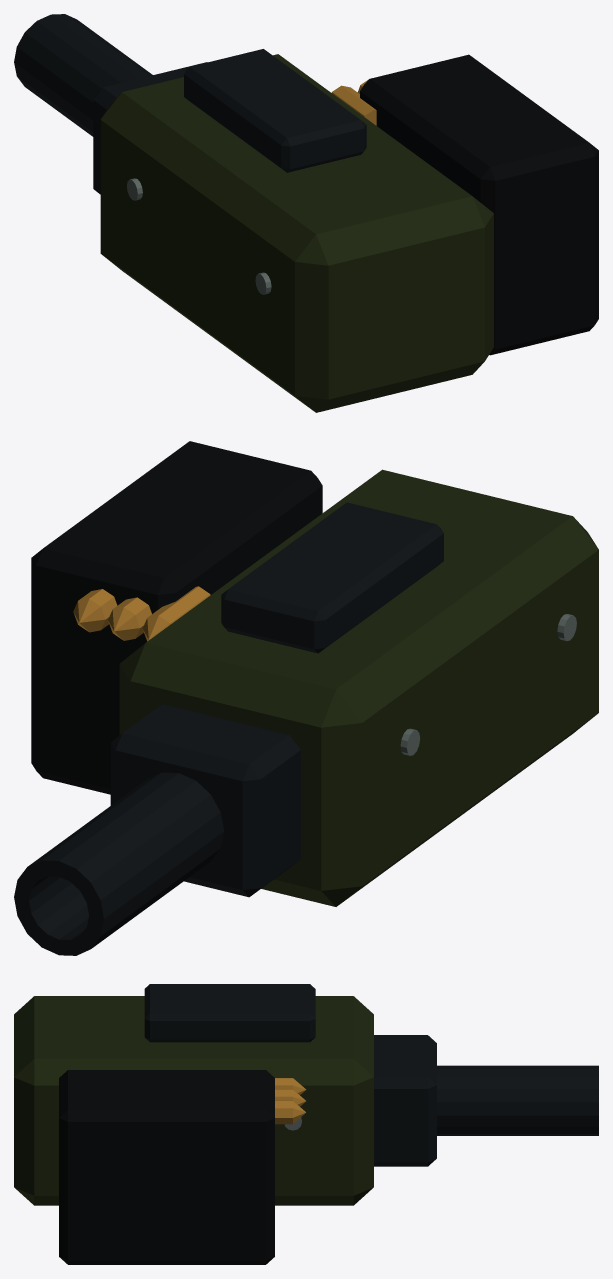
Rendered from Grenade40.obj.
The picture shows the model from 3 angles, top to bottom: view 1: azimuth 30°, elevation 25°; view 2: azimuth 150°, elevation 25°; view 3: azimuth 270°, elevation 25°; orthographic projection. The views are drawn at different scales.
Visible parts, largest first — view 1: Grenade_pod_shell, Ammunition_box, Mount_lug, Short_large-bore_barrel, Grenade_receiver, Grenade_belt.001; view 2: Grenade_pod_shell, Ammunition_box, Short_large-bore_barrel, Grenade_receiver, Mount_lug, Grenade_belt.002, Grenade_belt.003, Grenade_belt.001; view 3: Ammunition_box, Grenade_pod_shell, Short_large-bore_barrel, Mount_lug, Grenade_receiver, Grenade_belt.003.
Part boxes in pixels (x1,y1,x2,y2): Grenade_pod_shell: (100,54,493,412); Ammunition_box: (360,54,598,355); Mount_lug: (184,49,366,172); Short_large-bore_barrel: (14,14,152,136); Grenade_receiver: (93,62,207,194); Grenade_belt.001: (331,85,376,125); Grenade_pod_shell: (119,469,598,906); Ammunition_box: (31,441,322,794); Short_large-bore_barrel: (14,772,223,955); Grenade_receiver: (110,704,300,897); Mount_lug: (221,502,443,653); Grenade_belt.002: (108,597,151,640); Grenade_belt.003: (73,589,117,632); Grenade_belt.001: (142,586,210,641); Ammunition_box: (59,1070,274,1264); Grenade_pod_shell: (14,996,373,1205); Short_large-bore_barrel: (437,1065,598,1135); Mount_lug: (144,984,315,1042); Grenade_receiver: (374,1035,436,1166); Grenade_belt.003: (275,1100,305,1124).
Bounding box in the file's own units: 0.696 × 0.44 × 1.3.
